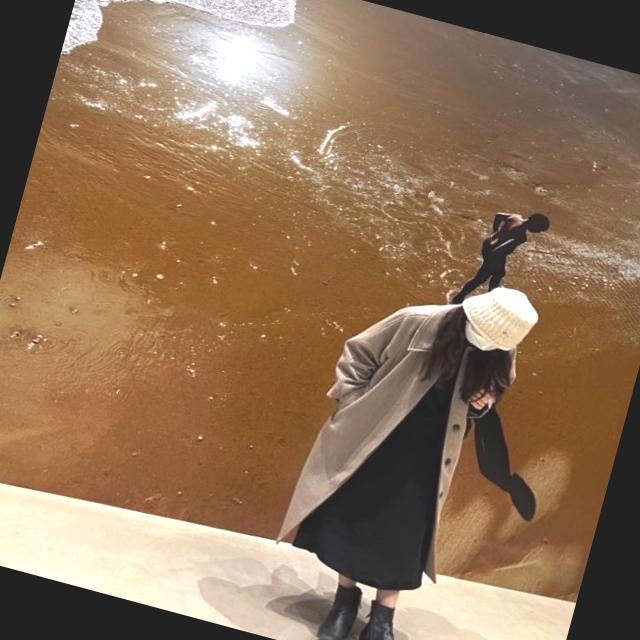coat: (274, 274, 529, 591)
skirt: (308, 393, 464, 598)
